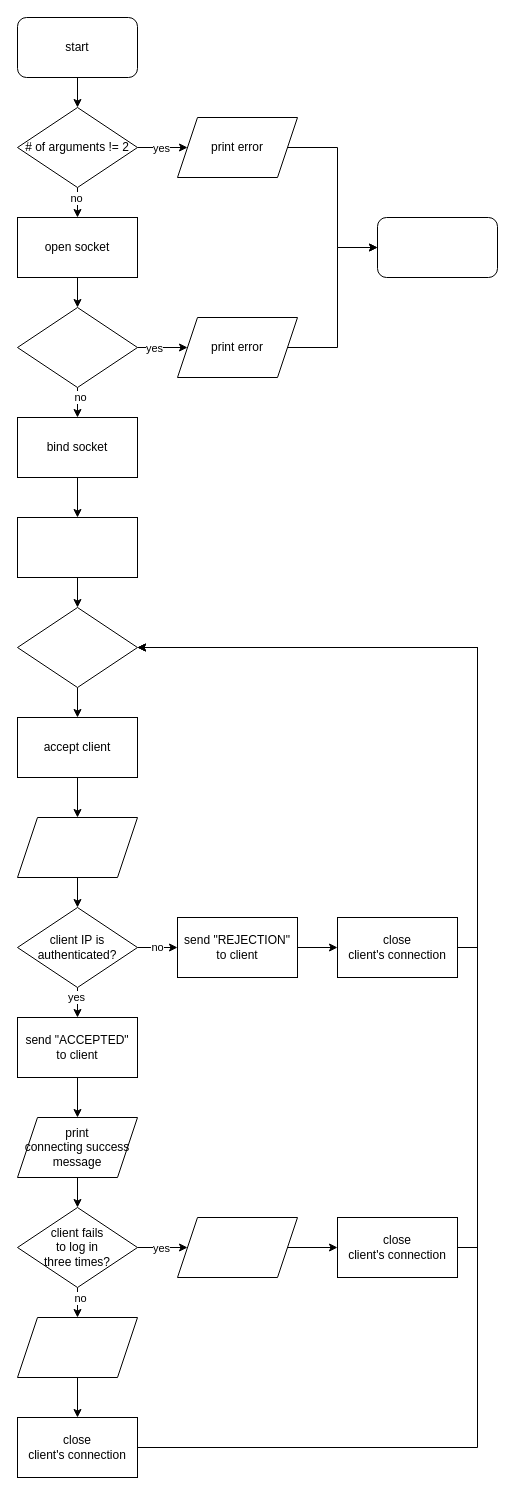
Image size: 515x1495. Some labels were removed from this diagram. Each missing label, with the centre of its shape:
end: [437,247]
listen: [77,547]
print client info (IP, port): [77,847]
print log in fail message: [237,1247]
print log in success message: [77,1347]
socket error?: [77,347]
True: [77,647]
